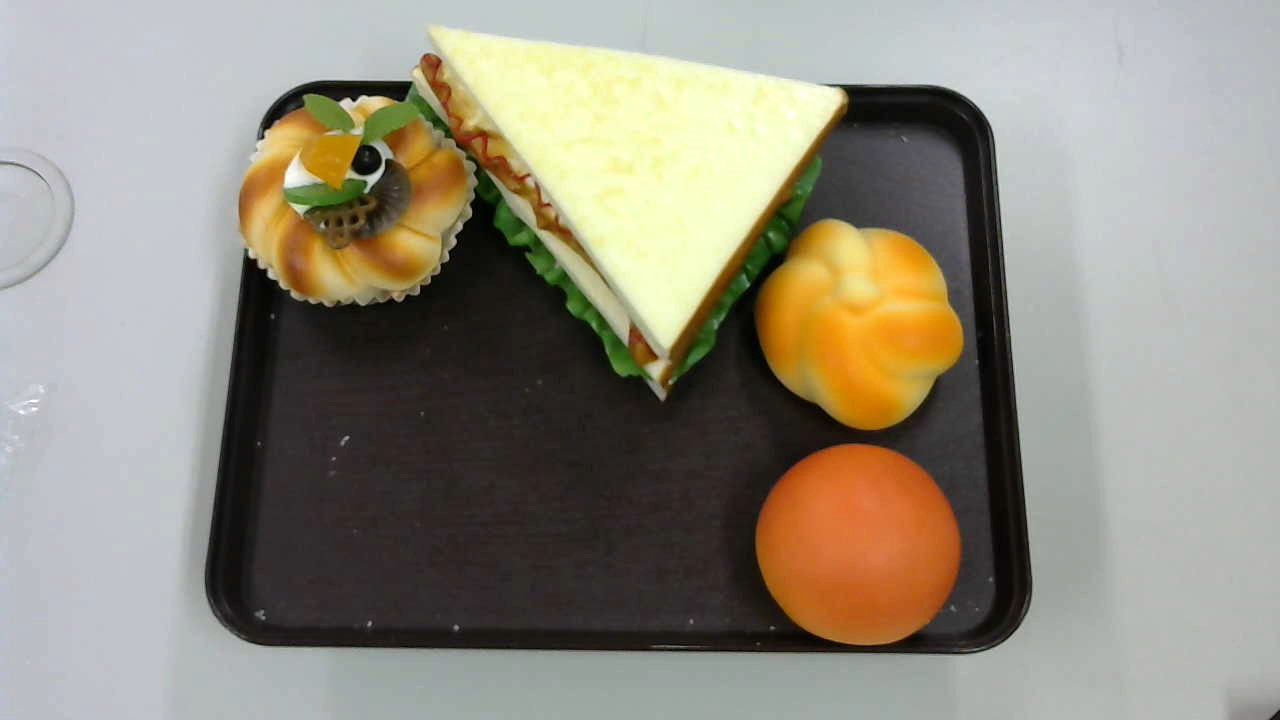bun: (751, 443, 963, 645)
fruit tart: (236, 93, 475, 306)
sandwich: (401, 23, 846, 402)
twist bread: (752, 214, 967, 431)
